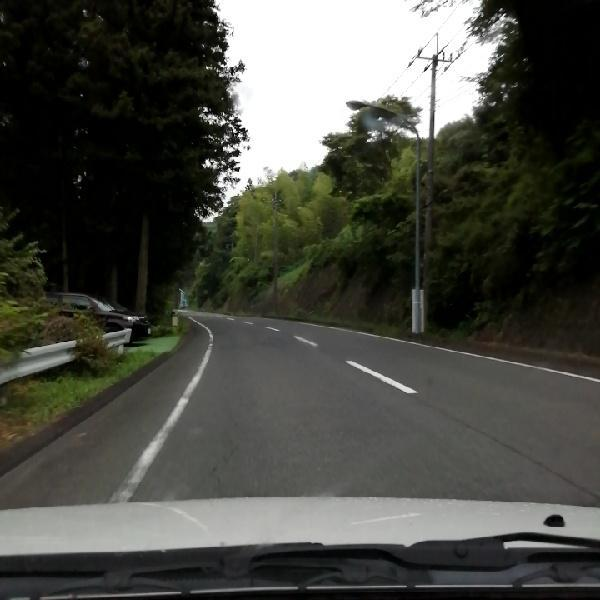D00: (189, 409, 247, 496)
